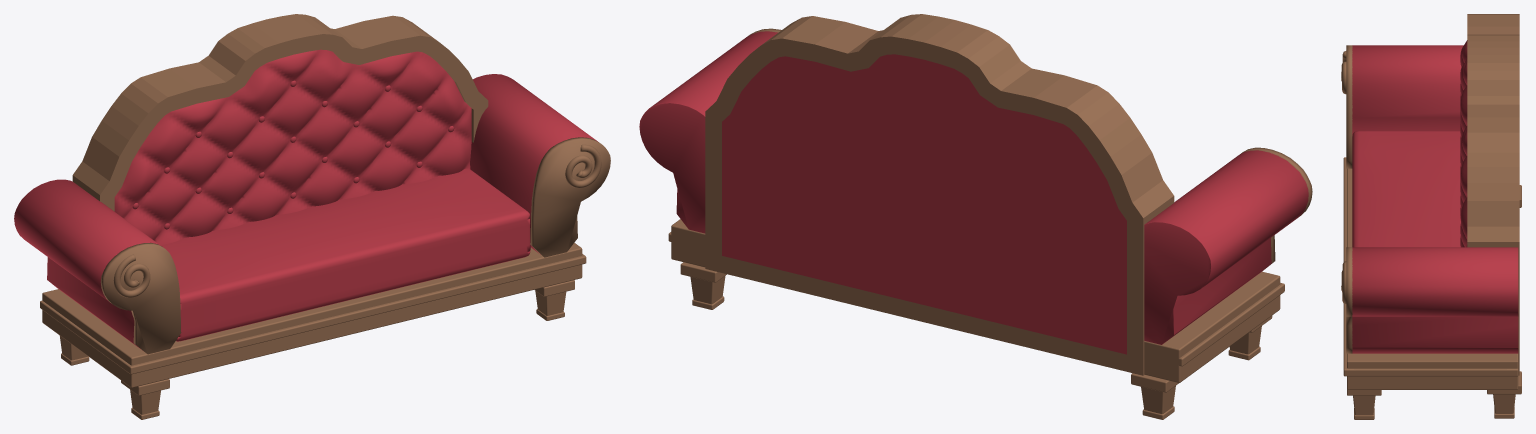
File: Sofa.glb
3 renders of one model, left to right at view 1: azimuth 30°, elevation 25°; view 2: azimuth 150°, elevation 25°; view 3: azimuth 270°, elevation 25°, orthographic. The views are drawn at different scales.
Visible parts, largest first — view 1: Sofa_BackPanel, Sofa_Seat, Sofa_Base, Sofa_BackFrame, Sofa_Arm_L, Sofa_Arm_R, Sofa_ArmFront_R, Sofa_ArmFront_L, Sofa_Leg_FL, Sofa_Leg_FR, Sofa_Buttons; view 2: Sofa_BackRear, Sofa_BackFrame, Sofa_Arm_L, Sofa_Arm_R, Sofa_Base, Sofa_Leg_BL, Sofa_Leg_BR, Sofa_Leg_FL; view 3: Sofa_Arm_R, Sofa_Seat, Sofa_BackFrame, Sofa_Arm_L, Sofa_Base, Sofa_BackPanel, Sofa_ArmFront_L, Sofa_ArmFront_R, Sofa_Leg_BR, Sofa_Leg_FR.
Boxes of the visible parts, box(x1,y1,x2,y2) form: Sofa_BackPanel: box(114, 49, 471, 244); Sofa_Seat: box(160, 168, 530, 341); Sofa_Base: box(40, 243, 586, 387); Sofa_BackFrame: box(72, 14, 488, 211); Sofa_Arm_L: box(14, 179, 160, 350); Sofa_Arm_R: box(470, 74, 597, 254); Sofa_ArmFront_R: box(530, 137, 610, 257); Sofa_ArmFront_L: box(100, 242, 181, 354); Sofa_Leg_FL: box(121, 379, 169, 419); Sofa_Leg_FR: box(534, 280, 574, 320); Sofa_Buttons: box(132, 80, 454, 229); Sofa_BackRear: box(722, 54, 1126, 354); Sofa_BackFrame: box(705, 14, 1174, 375); Sofa_Arm_L: box(1144, 150, 1308, 344); Sofa_Arm_R: box(639, 31, 777, 233); Sofa_Base: box(668, 219, 1284, 382); Sofa_Leg_BL: box(1131, 373, 1178, 419); Sofa_Leg_BR: box(680, 262, 726, 309); Sofa_Leg_FL: box(1228, 315, 1272, 360); Sofa_Arm_R: box(1352, 247, 1518, 353); Sofa_Seat: box(1352, 130, 1460, 247); Sofa_BackFrame: box(1467, 14, 1519, 375); Sofa_Arm_L: box(1352, 45, 1463, 135); Sofa_Base: box(1343, 157, 1518, 389); Sofa_BackPanel: box(1460, 40, 1467, 247); Sofa_ArmFront_L: box(1341, 45, 1352, 168); Sofa_ArmFront_R: box(1341, 247, 1352, 353); Sofa_Leg_BR: box(1487, 371, 1521, 418); Sofa_Leg_FR: box(1347, 389, 1381, 419).
Size of the model in its own units: 2.09 by 1.13 by 0.6743.
